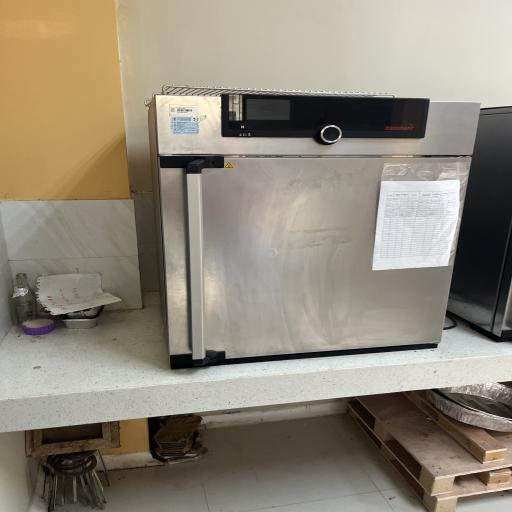Memmert_Unidad2: (131, 72, 485, 373)
